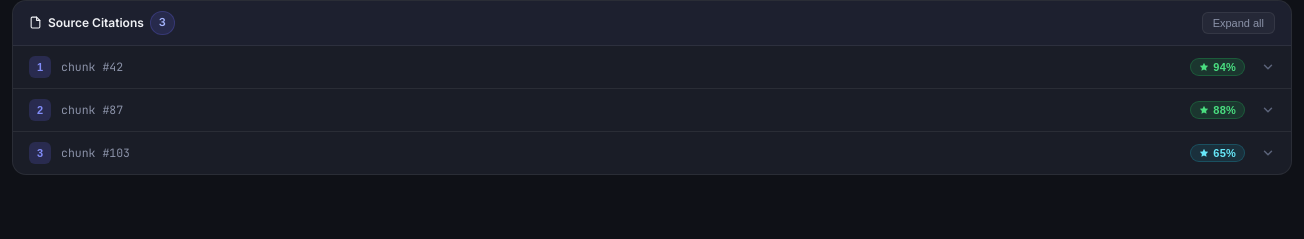
Test case: CitationList Component › expands a card when clicked
The image size is (1304, 239).
Click the first citation card header
Click the button "1 chunk #42 94%": (85, 67) [13,46,1291,88]
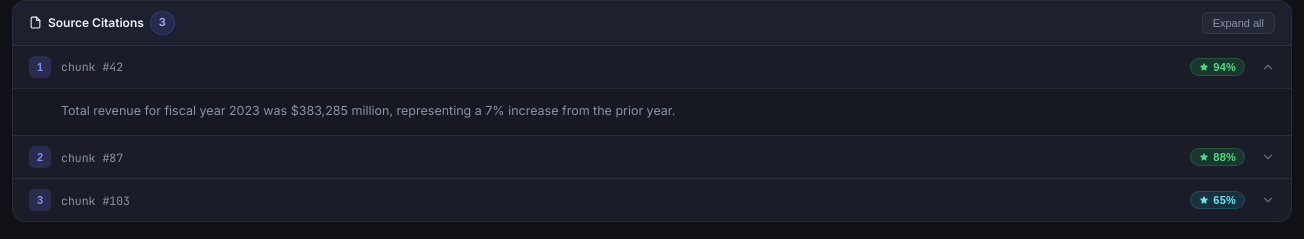
Expected: the text "Total revenue for fiscal year 2023" is shown, [61,103,675,118]
